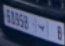5: (19, 13, 24, 28), (6, 8, 11, 23)
8: (56, 25, 63, 40), (24, 15, 29, 30), (11, 10, 15, 25)
9: (15, 12, 19, 26)
b: (38, 23, 45, 32)
